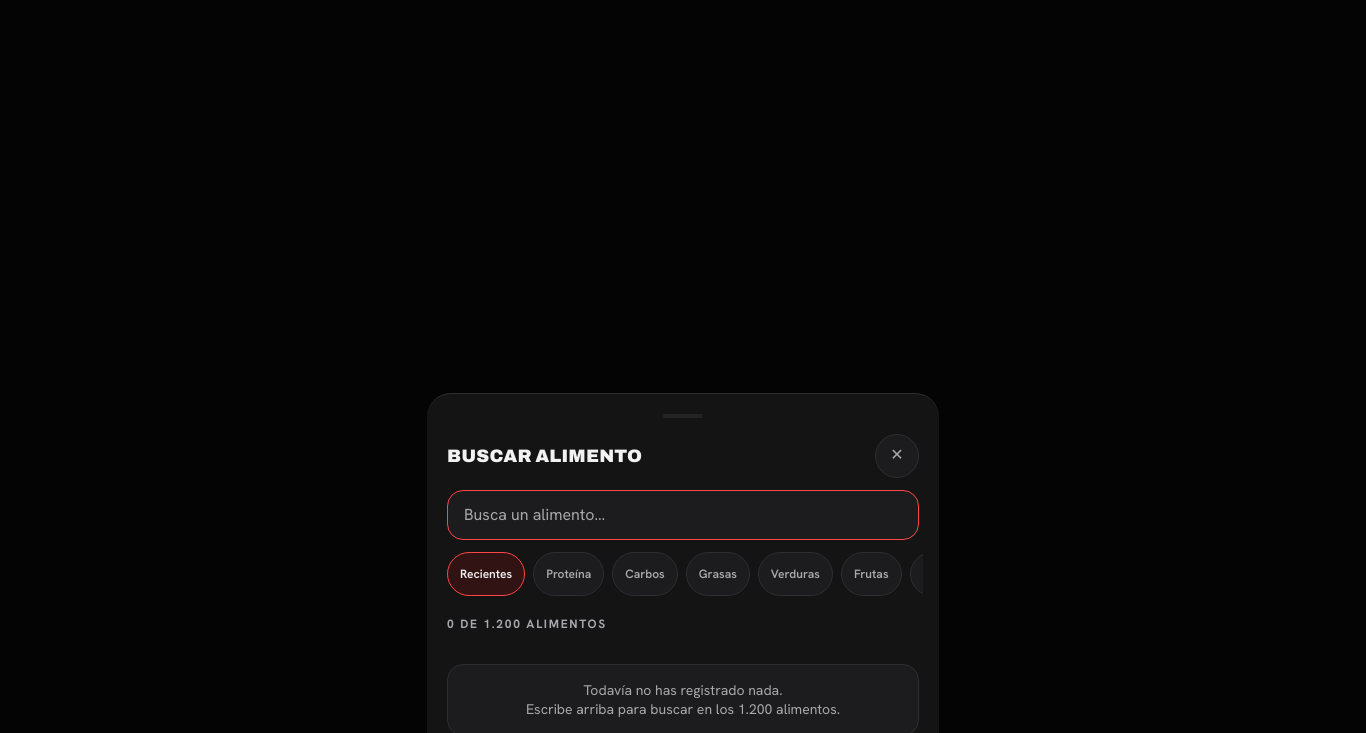
Test case: SheetBuscarAlimento › un filtro deja solo su grupo
Click the button "Grasas". click: (718, 574)
box: [686,552,750,596]
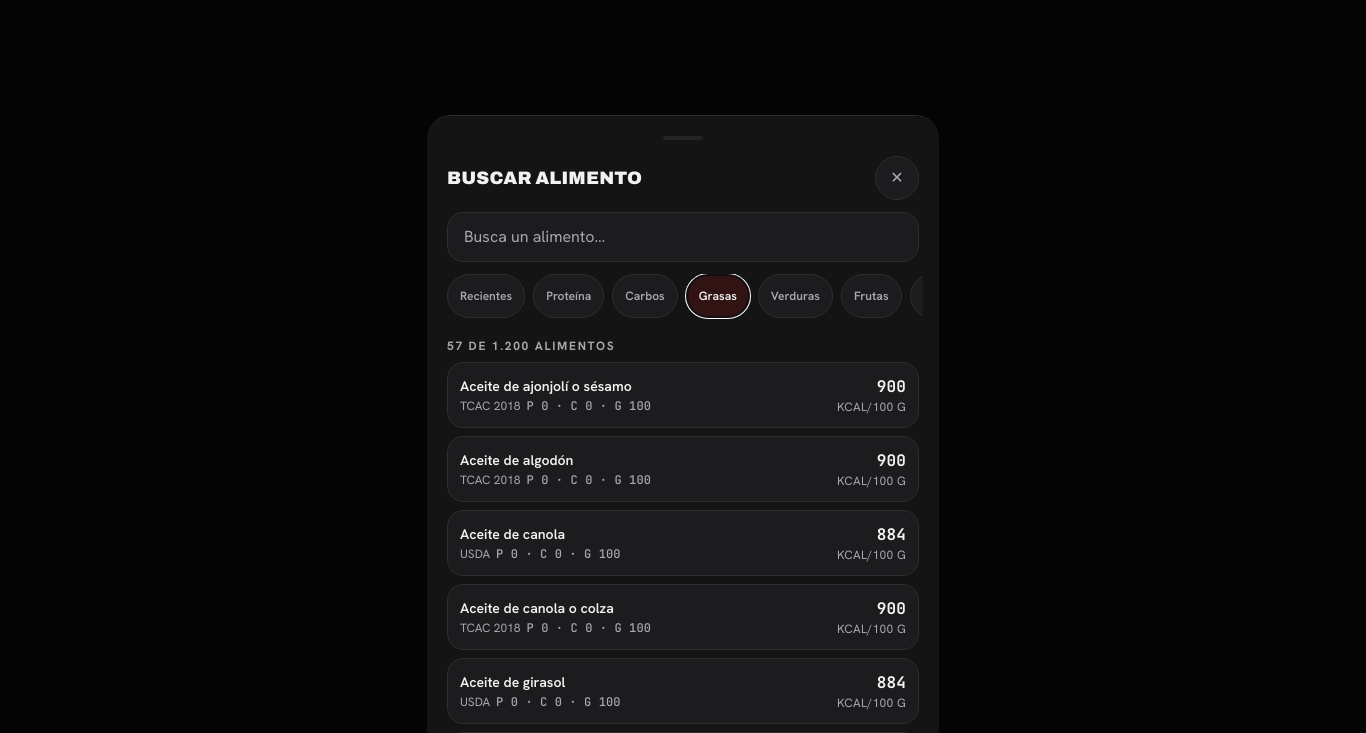
Check: the text "57 de 1.200 alimentos" is shown, box [447,338,615,354]
